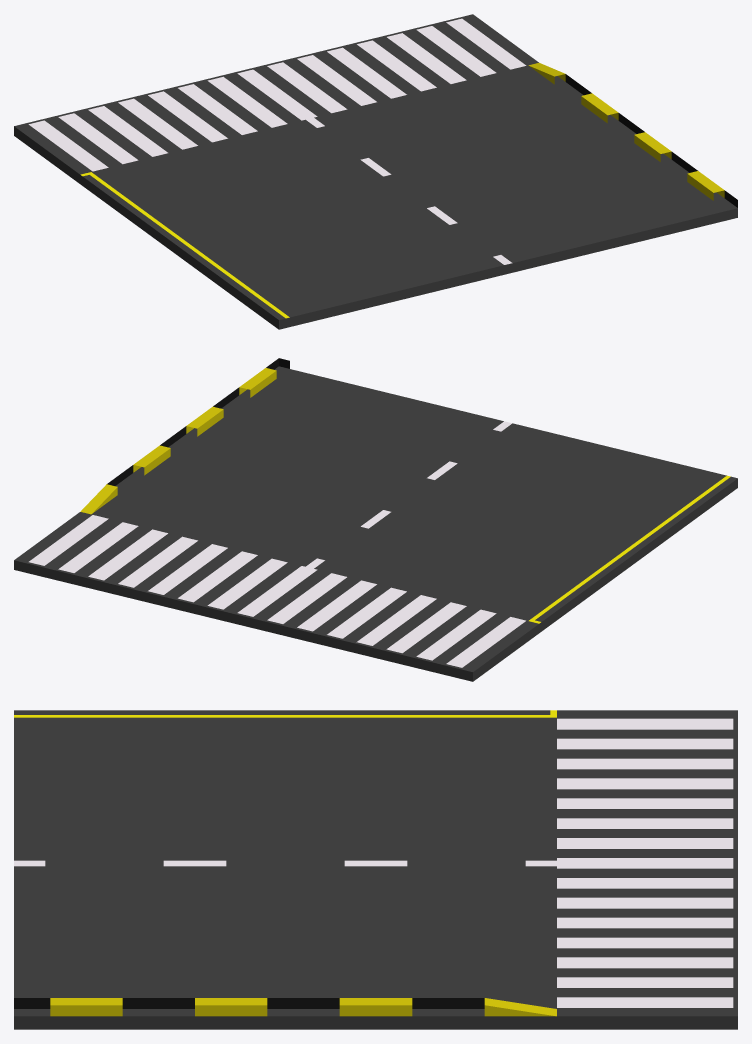
The model's file is major_straight_2_width_crosswalk_flipped.glb.
The picture shows the model from 3 angles, top to bottom: view 1: azimuth 30°, elevation 25°; view 2: azimuth 150°, elevation 25°; view 3: azimuth 270°, elevation 25°; orthographic projection. The views are drawn at different scales.
Visible parts, largest first — view 1: MajorStraight2WidthCrosswalkFlipped; view 2: MajorStraight2WidthCrosswalkFlipped; view 3: MajorStraight2WidthCrosswalkFlipped.
Boxes of the visible parts, x1,y1,x2,y2 form: MajorStraight2WidthCrosswalkFlipped: [14, 14, 737, 329]; MajorStraight2WidthCrosswalkFlipped: [14, 358, 737, 681]; MajorStraight2WidthCrosswalkFlipped: [14, 710, 737, 1029].
Bounding box in the file's own units: 2 × 0.0741 × 2.
